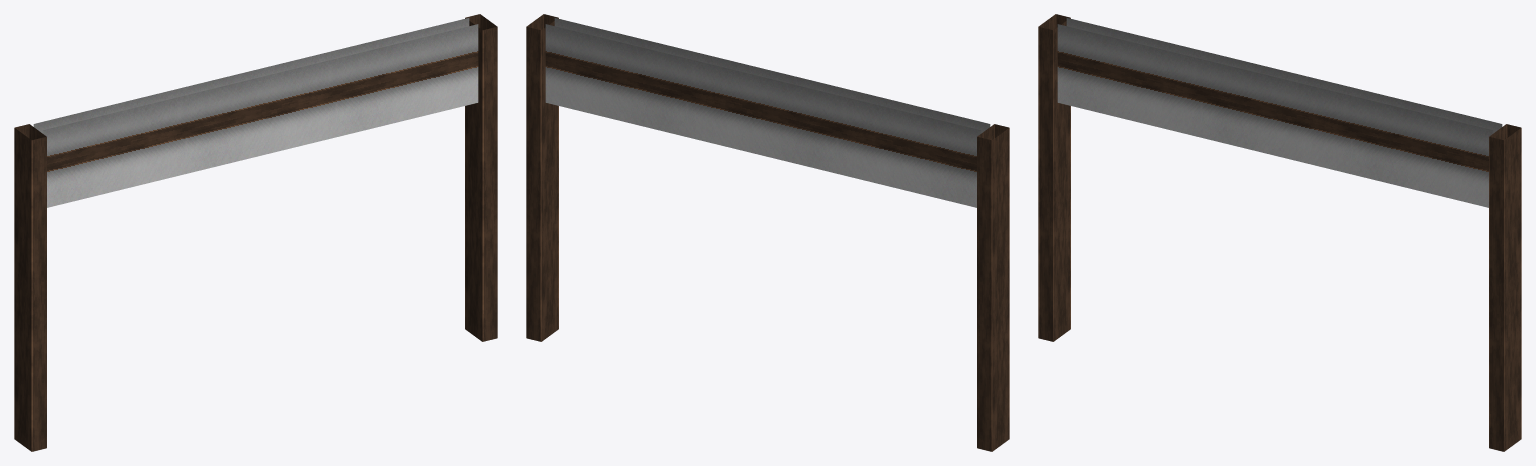
Rendered from house_enterance_6x4.glb.
3 views of the same model, side by side, from view 1: azimuth 30°, elevation 25°; view 2: azimuth 150°, elevation 25°; view 3: azimuth 330°, elevation 25° (orthographic).
Parts seen in each view (by area): view 1: house_enterance_6x4; view 2: house_enterance_6x4; view 3: house_enterance_6x4.
Boxes of the visible parts, bbox=[...] form: house_enterance_6x4: bbox=[14, 14, 497, 451]; house_enterance_6x4: bbox=[526, 14, 1009, 451]; house_enterance_6x4: bbox=[1038, 14, 1521, 451].
Size of the model in its own units: 6.19 by 4 by 0.4.
Materials: 2 (2 with a texture image).
